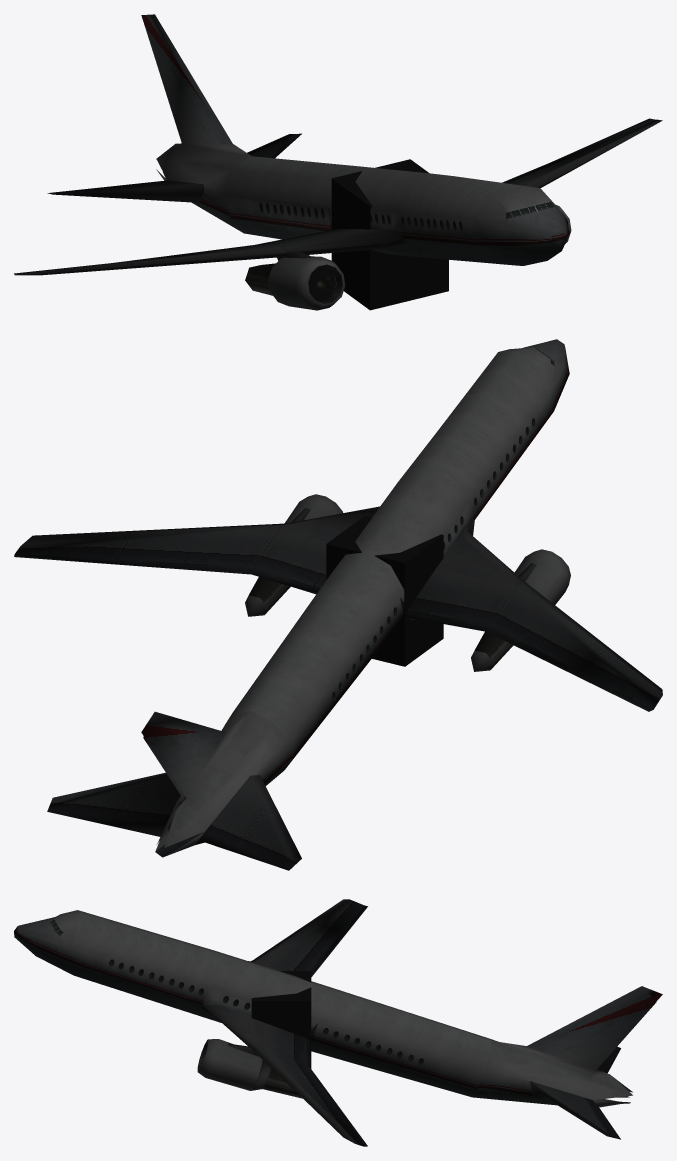
File: cell_-3_0.gltf
The picture shows the model from 3 angles, top to bottom: view 1: azimuth 30°, elevation 25°; view 2: azimuth 150°, elevation 25°; view 3: azimuth 270°, elevation 25°; orthographic projection. The views are drawn at different scales.
Visible parts, largest first — view 1: cell_-3_0; view 2: cell_-3_0; view 3: cell_-3_0.
Boxes of the visible parts, x1=… form: cell_-3_0: x1=14, y1=14, x2=662, y2=310; cell_-3_0: x1=14, y1=339, x2=662, y2=870; cell_-3_0: x1=14, y1=899, x2=662, y2=1146.
Bounding box in the file's own units: 82.47 × 30.79 × 93.67.
Materials: 3 (3 with a texture image).
